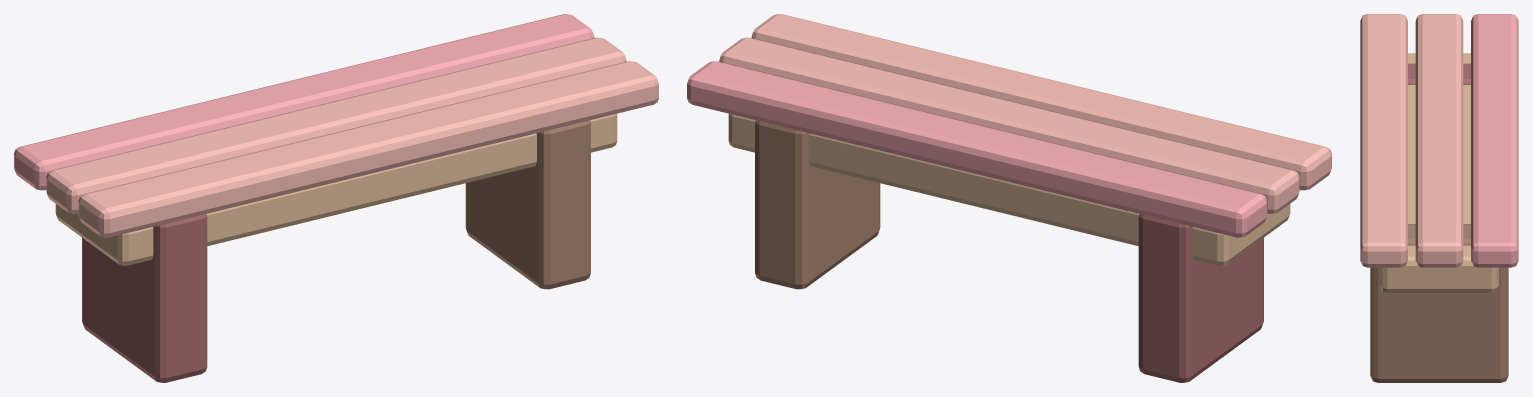
The model's file is WC_RIVER_Bench_Cedar_A.glb.
3 renders of one model, left to right at view 1: azimuth 30°, elevation 25°; view 2: azimuth 150°, elevation 25°; view 3: azimuth 270°, elevation 25°, orthographic. The views are drawn at different scales.
Visible parts, largest first — view 1: WC_RIVER_Bench_Cedar_A_RenderMesh; view 2: WC_RIVER_Bench_Cedar_A_RenderMesh; view 3: WC_RIVER_Bench_Cedar_A_RenderMesh.
Boxes of the visible parts, box(x1,y1,x2,y2) form: WC_RIVER_Bench_Cedar_A_RenderMesh: box(14, 14, 658, 382); WC_RIVER_Bench_Cedar_A_RenderMesh: box(687, 14, 1331, 382); WC_RIVER_Bench_Cedar_A_RenderMesh: box(1360, 14, 1518, 382).
Size of the model in its own units: 1.4 by 0.465 by 0.4.
